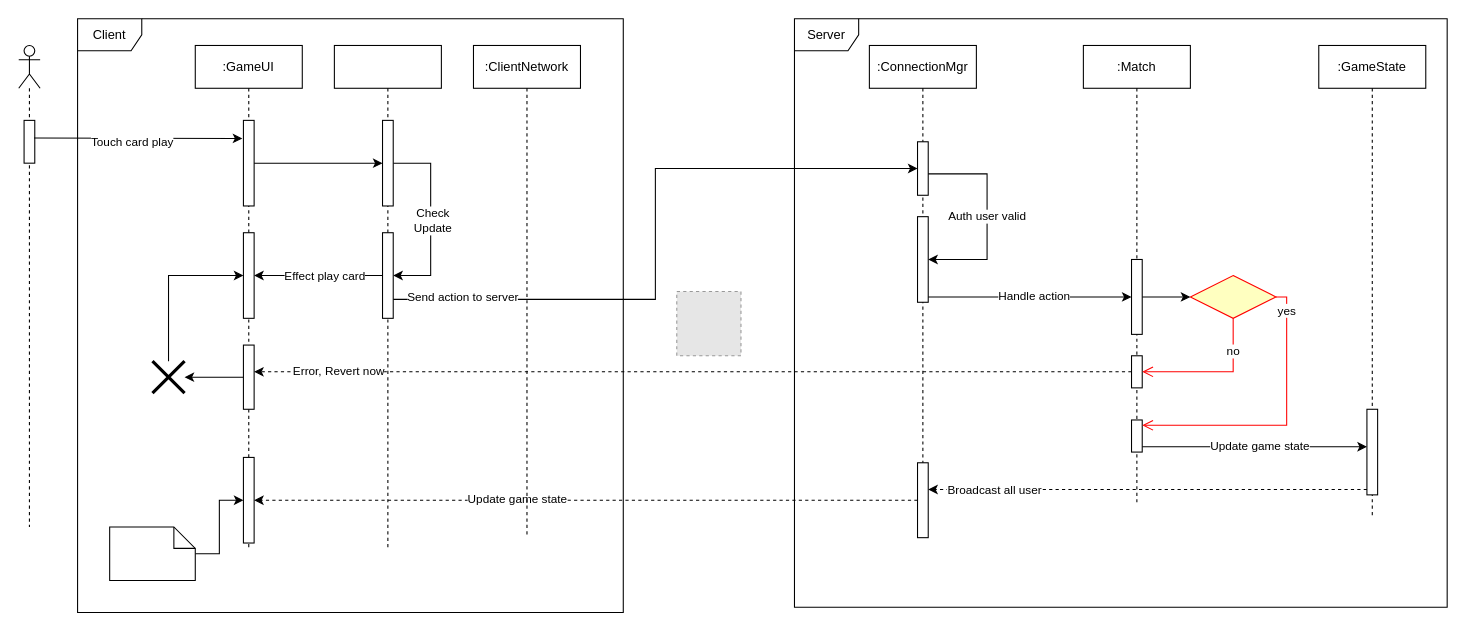
This 1466x631 diagram has some shape labels left out. Grey dashed boxes stand in for pictures. Each missing label, with the centre of its shape:
":GameLogic" goes at point (387, 296).
"Action Valid" goes at point (1232, 296).
"Skip effect me" goes at point (152, 553).
